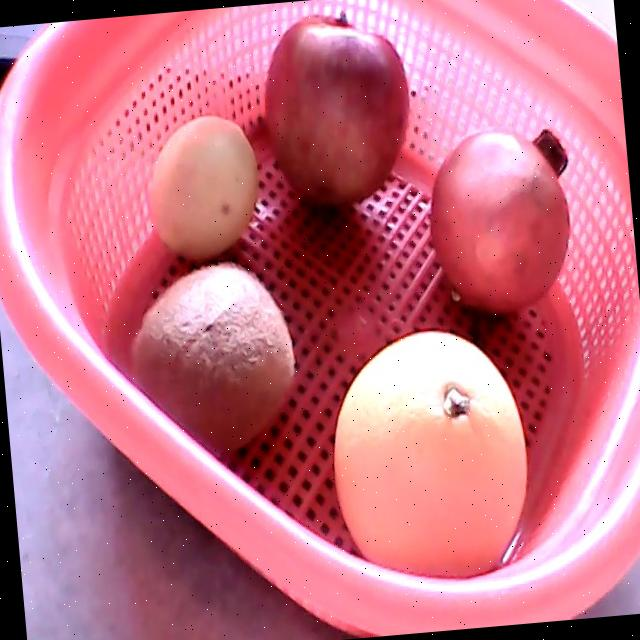apple: (264, 11, 410, 205)
kiwi: (131, 264, 295, 452)
lemon: (149, 115, 256, 260)
orange: (332, 330, 527, 578)
pomegranate: (430, 128, 570, 312)
